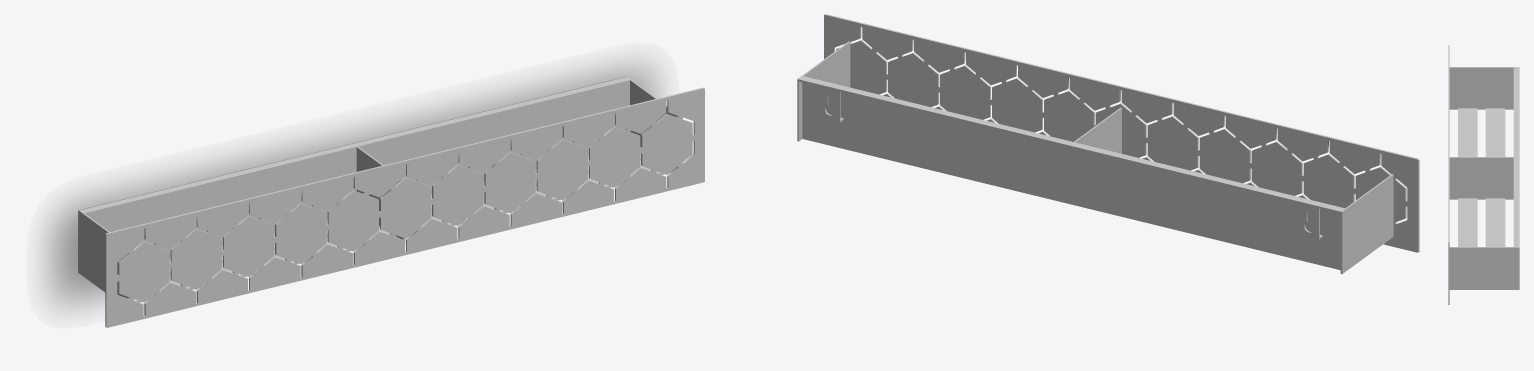
Rendered from bee-mono.d9b23fc16d.ar.glb.
3 renders of one model, left to right at view 1: azimuth 30°, elevation 25°; view 2: azimuth 150°, elevation 25°; view 3: azimuth 270°, elevation 25°, orthographic. The views are drawn at different scales.
Visible parts, largest first — view 1: NAUO1, object 2; view 2: NAUO1; view 3: NAUO1.
Boxes of the visible parts, left/top/right/bottom form: NAUO1: left=78, top=76, right=704, bottom=327; object 2: left=46, top=64, right=659, bottom=306; NAUO1: left=797, top=14, right=1419, bottom=273; NAUO1: left=1448, top=45, right=1519, bottom=304.
Size of the model in its own units: 0.68 by 0.17 by 0.092.
2 materials, 1 textured.
